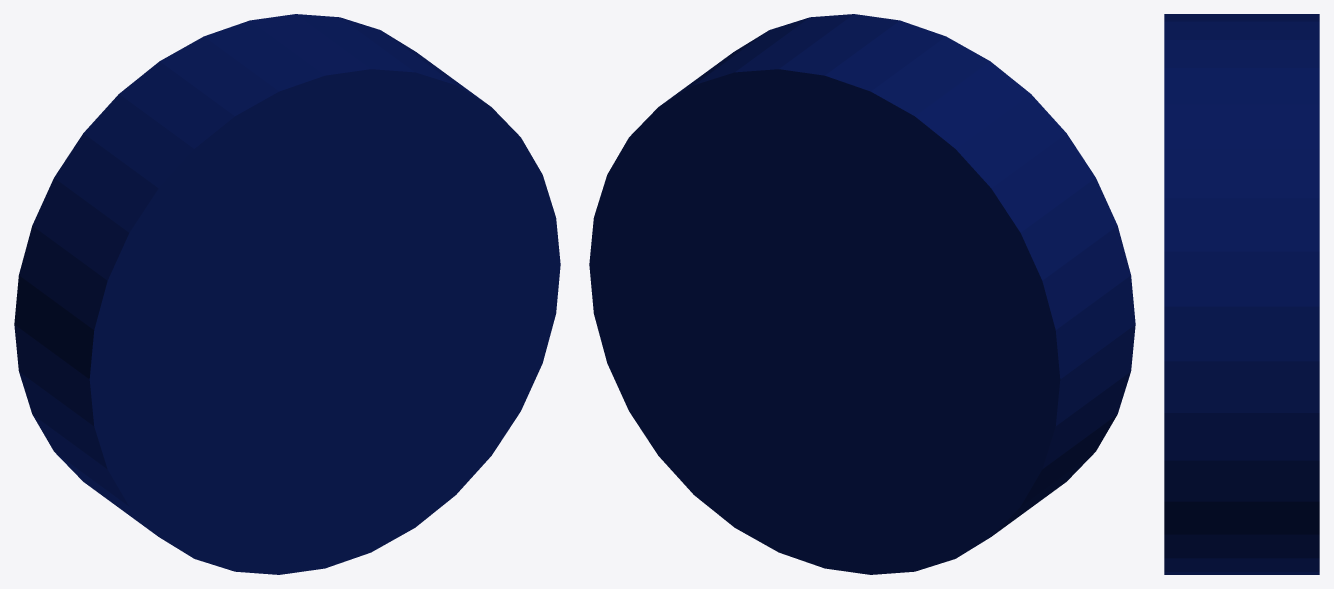
Rendered from tire.dae.
The picture shows the model from 3 angles, left to right: view 1: azimuth 30°, elevation 25°; view 2: azimuth 150°, elevation 25°; view 3: azimuth 270°, elevation 25°; orthographic projection. The views are drawn at different scales.
Visible parts, largest first — view 1: Cylinder; view 2: Cylinder; view 3: Cylinder.
Boxes of the visible parts, left/top/right/bottom form: Cylinder: left=14, top=14, right=560, bottom=574; Cylinder: left=589, top=14, right=1135, bottom=574; Cylinder: left=1164, top=14, right=1319, bottom=574.
Bounding box in the file's own units: 65.71 × 18.21 × 65.71.
